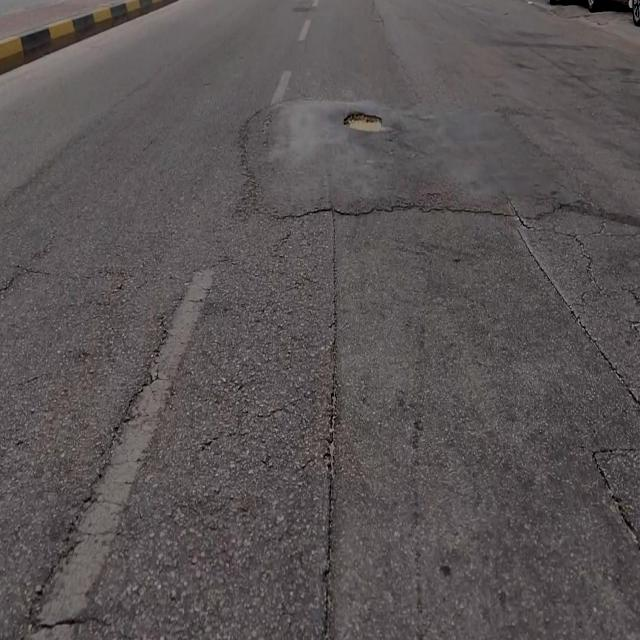Potholes: (342, 108, 384, 133)
